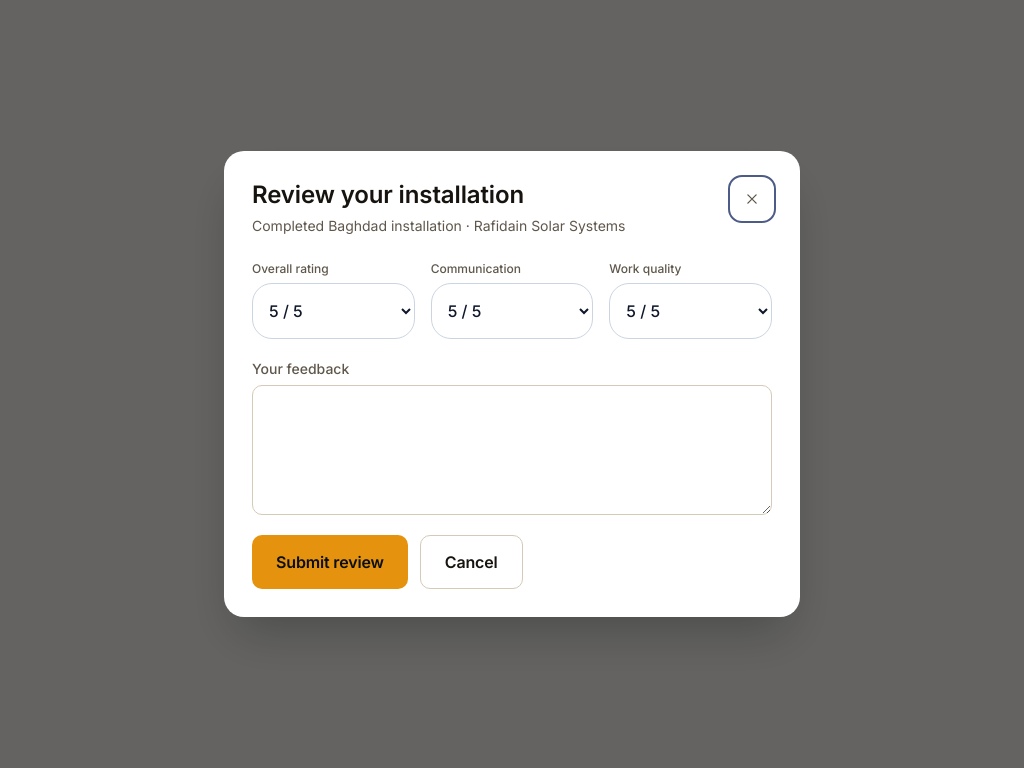
AddReviewModal › shows a localized duplicate-review response
This screenshot has width=1024, height=768.
Type "The installation was careful and finished on schedule." into the text box labelled "Your feedback" at {"x": 512, "y": 450}, box [252,385,772,515]
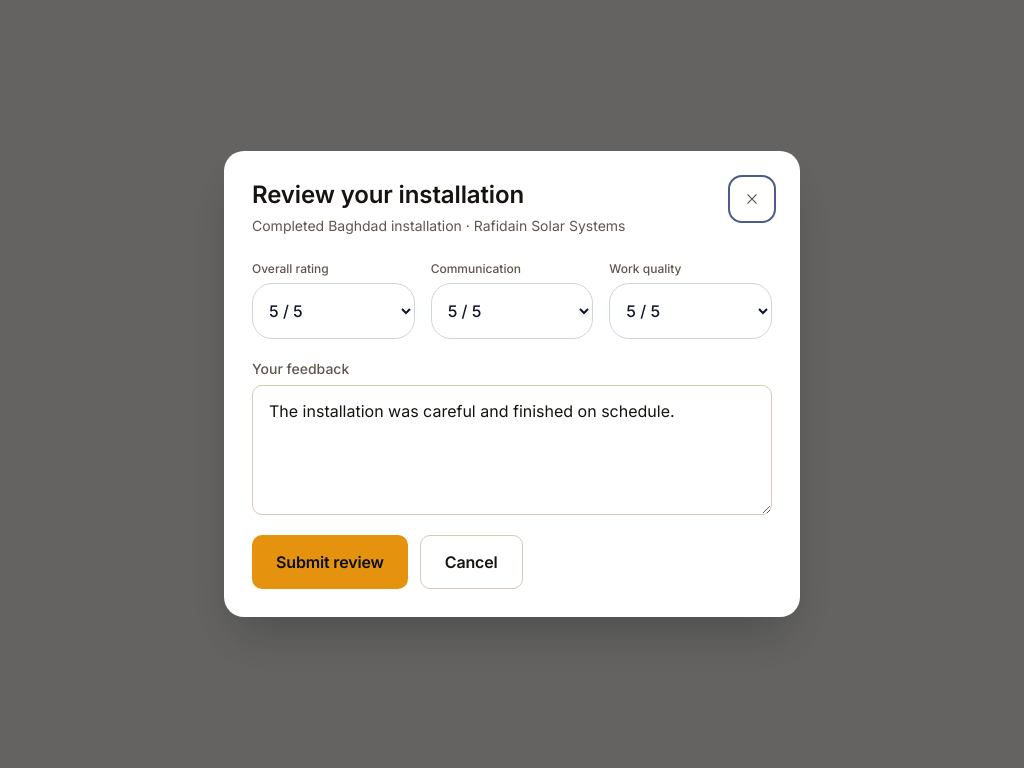
Click the button "Submit review" at {"x": 330, "y": 562}, box [252,535,408,589]
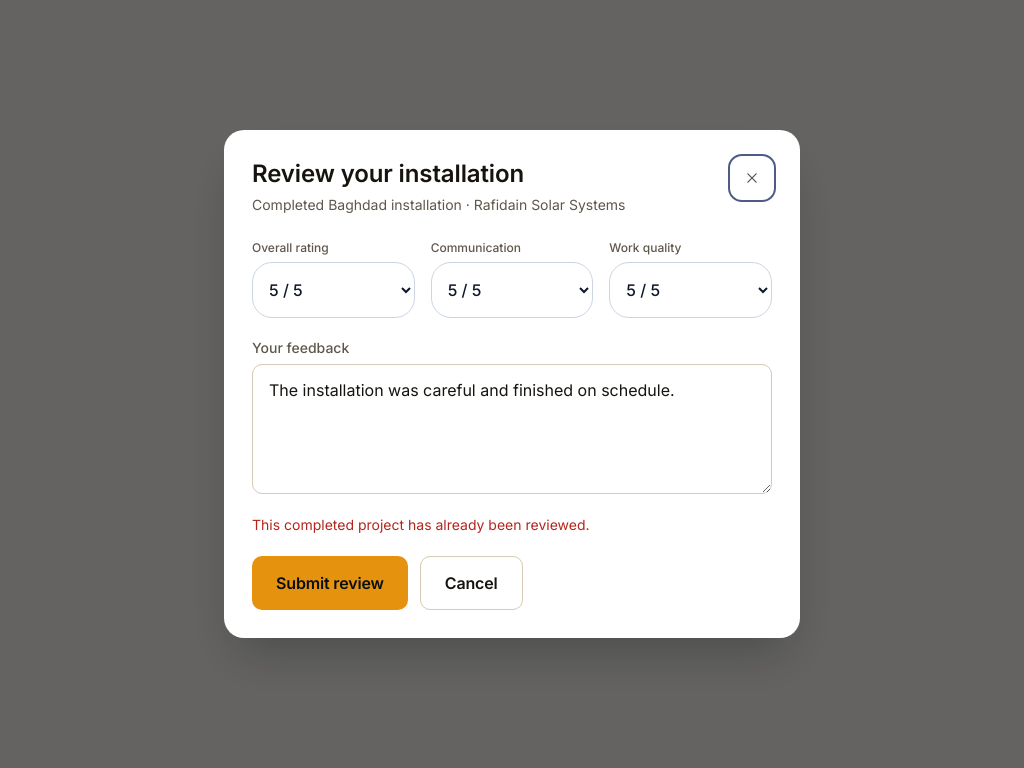
Now the message reads "This completed project has already been reviewed.", box [252,516,590,533]
